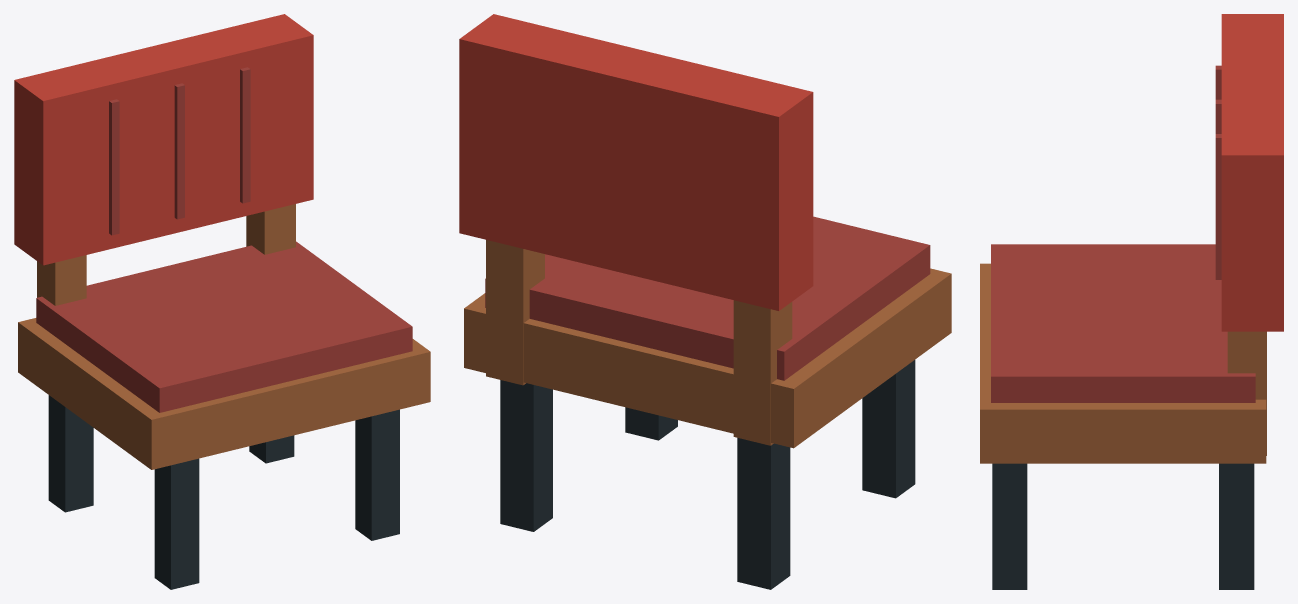
File: Seat.glb
3 renders of one model, left to right at view 1: azimuth 30°, elevation 25°; view 2: azimuth 150°, elevation 25°; view 3: azimuth 270°, elevation 25°, orthographic. The views are drawn at different scales.
Parts seen in each view (by area): view 1: Upholstered chair back, Upholstered cushion, Maple chair frame, Seat legs, Seat legs.002, Seat legs.001, Back support, Back support.001, Stitched back seam.002, Stitched back seam, Stitched back seam.001, Seat legs.003; view 2: Upholstered chair back, Maple chair frame, Upholstered cushion, Seat legs.001, Seat legs.003, Back support, Seat legs, Back support.001, Seat legs.002; view 3: Upholstered cushion, Upholstered chair back, Maple chair frame, Seat legs.002, Seat legs.003, Back support.001, Stitched back seam.002.
Boxes of the visible parts, bbox=[...] form: Upholstered chair back: bbox=[14, 14, 313, 265]; Upholstered cushion: bbox=[36, 241, 412, 412]; Maple chair frame: bbox=[18, 318, 430, 469]; Seat legs: bbox=[154, 458, 199, 589]; Seat legs.002: bbox=[355, 409, 399, 540]; Seat legs.001: bbox=[48, 395, 93, 512]; Back support: bbox=[37, 255, 86, 305]; Back support.001: bbox=[246, 204, 295, 254]; Stitched back seam.002: bbox=[240, 67, 250, 203]; Stitched back seam: bbox=[109, 99, 119, 235]; Stitched back seam.001: bbox=[174, 83, 184, 219]; Seat legs.003: bbox=[249, 435, 294, 463]; Upholstered chair back: bbox=[459, 14, 813, 310]; Maple chair frame: bbox=[464, 268, 951, 448]; Upholstered cushion: bbox=[485, 216, 930, 380]; Seat legs.001: bbox=[737, 438, 790, 589]; Seat legs.003: bbox=[500, 380, 552, 531]; Back support: bbox=[733, 300, 792, 445]; Seat legs: bbox=[862, 360, 915, 498]; Back support.001: bbox=[486, 240, 544, 385]; Seat legs.002: bbox=[625, 407, 677, 440]; Upholstered cushion: bbox=[991, 244, 1255, 402]; Upholstered chair back: bbox=[1221, 14, 1283, 331]; Maple chair frame: bbox=[980, 263, 1266, 463]; Seat legs.002: bbox=[992, 463, 1027, 589]; Seat legs.003: bbox=[1219, 463, 1254, 589]; Back support.001: bbox=[1227, 331, 1266, 455]; Stitched back seam.002: bbox=[1215, 134, 1221, 279].
Bounding box in the file's own units: 0.64 × 0.91 × 0.5625.
